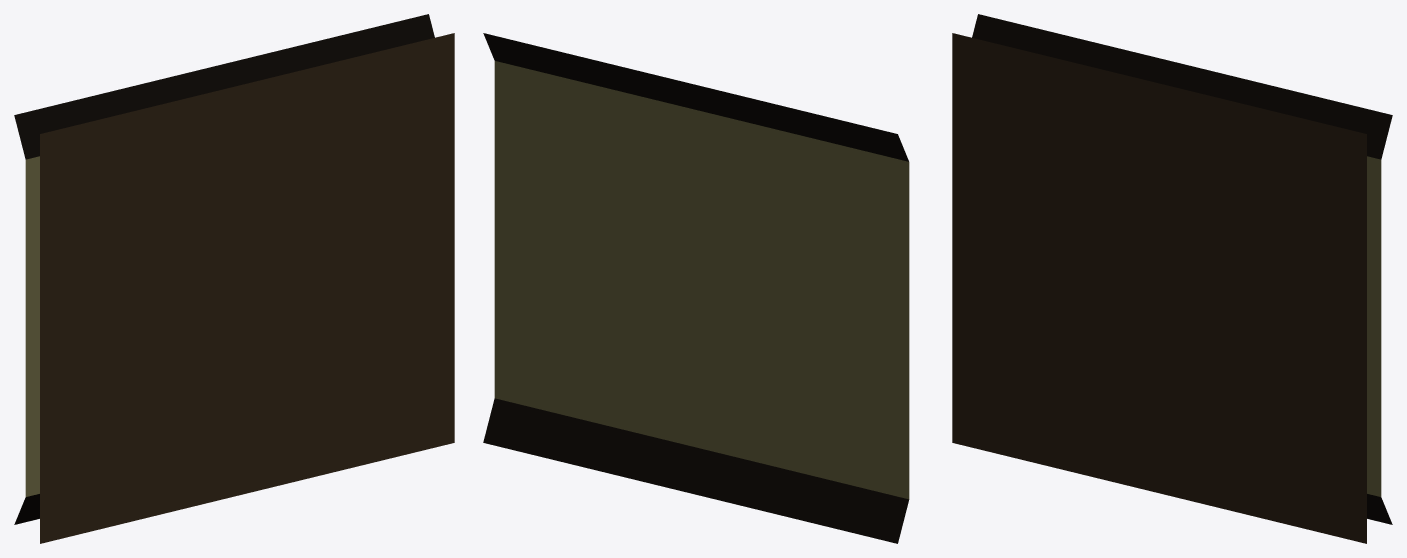
Rendered from OBJ_Tile_Mur_Grand.fbx.
3 views of the same model, side by side, from view 1: azimuth 30°, elevation 25°; view 2: azimuth 150°, elevation 25°; view 3: azimuth 330°, elevation 25° (orthographic).
Parts seen in each view (by area): view 1: Tile_Mur_Grand; view 2: Tile_Mur_Grand; view 3: Tile_Mur_Grand.
Boxes of the visible parts, bbox=[...] form: Tile_Mur_Grand: bbox=[14, 14, 454, 543]; Tile_Mur_Grand: bbox=[483, 33, 909, 543]; Tile_Mur_Grand: bbox=[952, 14, 1392, 543].
Bounding box in the file's own units: 1200 × 1133 × 130.
